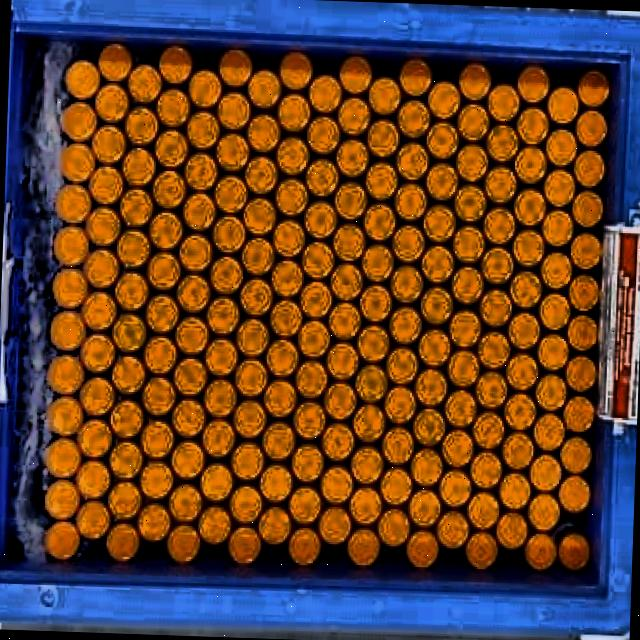vial: (45, 397, 83, 434), (176, 274, 212, 313), (80, 377, 116, 415), (107, 482, 143, 519), (337, 97, 372, 135), (60, 103, 95, 141), (155, 128, 189, 167), (60, 142, 94, 181), (86, 207, 120, 246), (49, 354, 83, 393), (77, 460, 111, 499), (124, 105, 157, 145), (47, 438, 80, 478), (65, 61, 101, 97), (181, 194, 216, 231), (53, 269, 88, 306), (144, 294, 179, 331), (82, 335, 117, 372), (173, 358, 208, 395), (109, 400, 144, 437), (339, 57, 373, 95), (275, 137, 309, 175), (96, 83, 130, 121), (122, 148, 156, 186), (90, 166, 124, 204), (52, 312, 86, 350), (577, 67, 610, 106), (575, 109, 608, 148), (219, 49, 252, 88), (159, 45, 192, 84), (217, 132, 250, 171), (214, 173, 247, 212), (128, 64, 161, 103), (176, 316, 209, 355), (187, 109, 219, 149), (147, 253, 182, 289), (83, 293, 118, 329), (528, 455, 562, 492), (365, 119, 399, 156), (92, 125, 126, 162), (117, 230, 151, 267), (114, 314, 148, 351), (172, 399, 206, 436), (76, 502, 110, 539), (303, 201, 337, 238), (517, 64, 550, 102), (545, 129, 578, 167), (363, 203, 396, 241), (184, 152, 217, 190), (84, 250, 117, 288), (115, 272, 148, 310), (480, 288, 512, 327), (309, 74, 341, 113), (158, 88, 190, 127), (456, 142, 487, 182), (179, 235, 213, 271), (119, 190, 153, 226), (454, 184, 487, 221), (540, 252, 573, 289), (507, 313, 540, 350), (477, 332, 510, 369), (334, 181, 367, 218), (306, 117, 339, 154), (142, 378, 175, 415), (46, 482, 79, 519), (46, 522, 79, 559), (329, 264, 362, 301), (233, 400, 266, 437), (296, 362, 329, 399), (212, 215, 245, 252), (397, 100, 429, 138), (543, 169, 575, 207), (437, 511, 469, 549), (364, 162, 396, 200), (140, 461, 172, 499), (289, 487, 321, 525), (320, 466, 352, 504), (558, 532, 589, 571), (421, 247, 455, 282), (274, 180, 309, 214), (420, 288, 453, 324), (410, 450, 443, 486), (423, 206, 456, 242), (392, 226, 425, 262), (248, 72, 281, 108), (245, 157, 278, 193), (99, 45, 132, 81), (55, 227, 88, 263), (79, 420, 112, 456), (389, 307, 422, 343), (427, 122, 459, 159), (426, 163, 458, 200), (537, 334, 569, 371), (563, 396, 595, 433), (414, 370, 446, 407), (247, 114, 279, 151), (154, 171, 186, 208), (144, 336, 176, 373), (172, 441, 204, 478), (260, 508, 292, 545), (291, 445, 323, 482), (322, 423, 354, 460), (353, 404, 385, 441), (270, 260, 302, 297), (210, 257, 242, 294), (458, 63, 489, 101), (568, 273, 599, 311), (452, 267, 483, 305), (449, 350, 480, 388), (382, 427, 413, 465), (288, 528, 319, 566), (229, 526, 260, 564), (350, 486, 381, 524), (207, 296, 238, 334), (232, 442, 262, 481), (506, 355, 539, 390), (501, 433, 534, 468), (412, 410, 445, 445), (335, 141, 368, 176), (107, 525, 140, 560), (323, 384, 356, 419), (243, 240, 276, 275), (485, 167, 517, 203), (514, 189, 546, 225), (558, 475, 590, 511), (465, 533, 497, 569), (441, 430, 473, 466), (333, 224, 365, 260), (149, 213, 181, 249), (260, 466, 292, 502), (237, 319, 269, 355), (235, 361, 267, 397), (487, 84, 518, 121), (400, 59, 431, 96), (397, 142, 428, 179), (514, 146, 545, 183), (570, 232, 601, 269), (542, 209, 573, 246), (453, 226, 484, 263), (511, 271, 542, 308), (565, 354, 596, 391), (467, 492, 498, 529), (363, 244, 394, 281), (189, 70, 220, 107), (170, 484, 201, 521), (351, 447, 382, 484), (356, 365, 387, 402), (384, 387, 415, 424), (391, 266, 422, 303), (294, 402, 325, 439), (265, 379, 296, 416), (202, 420, 233, 457), (266, 340, 297, 377), (547, 85, 577, 123), (139, 504, 169, 542), (201, 463, 231, 501), (242, 201, 276, 234), (487, 126, 519, 161), (418, 330, 450, 365), (535, 375, 567, 410), (472, 413, 504, 448), (504, 394, 536, 429), (534, 415, 566, 450), (306, 161, 338, 196), (113, 358, 145, 393), (204, 380, 236, 415), (269, 300, 301, 335), (574, 151, 605, 187), (484, 208, 515, 244), (513, 230, 544, 266), (567, 315, 598, 351), (450, 311, 481, 347), (476, 372, 507, 408), (58, 185, 89, 221), (143, 422, 174, 458), (380, 468, 411, 504), (230, 486, 261, 522), (330, 304, 361, 340), (572, 190, 602, 227), (525, 534, 555, 571), (278, 93, 308, 130), (446, 390, 475, 428), (219, 91, 248, 129), (200, 506, 229, 544), (328, 341, 357, 379), (358, 325, 387, 363), (560, 438, 592, 472), (440, 472, 472, 506), (482, 248, 513, 283), (527, 494, 558, 529), (496, 513, 527, 548), (281, 54, 312, 89), (319, 508, 350, 543), (263, 424, 294, 459), (396, 184, 426, 220), (379, 509, 409, 545), (169, 526, 199, 562), (298, 321, 328, 357), (301, 281, 331, 317), (517, 107, 546, 144), (430, 81, 459, 118), (369, 79, 400, 113), (539, 294, 569, 329), (471, 453, 501, 488), (408, 532, 438, 567), (409, 491, 439, 526), (360, 285, 390, 320), (274, 221, 304, 256), (240, 279, 270, 314), (500, 473, 529, 509), (349, 529, 378, 565), (458, 105, 488, 139), (111, 444, 141, 478), (206, 340, 236, 374), (387, 347, 416, 382), (303, 243, 332, 277)
